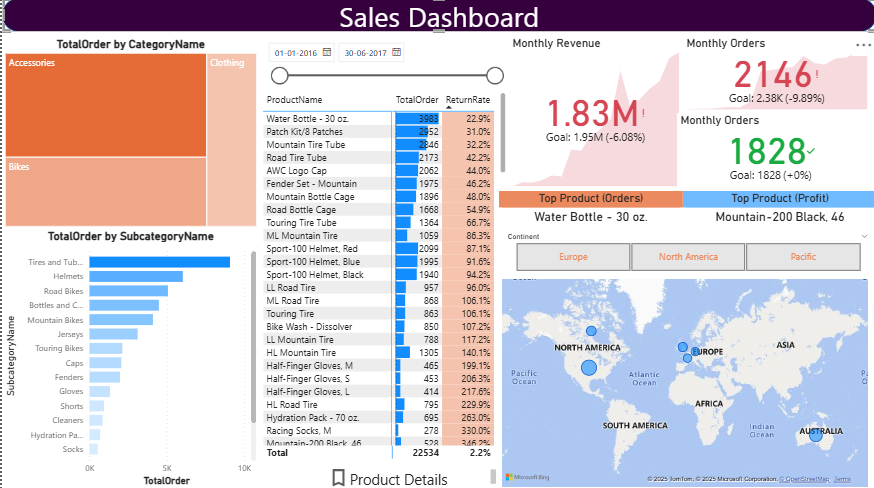

What the dashboard file says about the page in this screenshot:
{"tool":"powerbi","page":{"name":"summary","canvas":[1280,720],"ordinal":0},"visuals":[{"type":"shape","box":[0,0,1280,49.6],"z":0},{"type":"treemap","title":"TotalOrder by CategoryName","fields":{"Group":["Product_Categories.CategoryName"],"Values":["Sales_Data.TotalOrder"]},"box":[0,56.4,377.4,282.1],"z":1000},{"type":"barChart","title":"TotalOrder by SubcategoryName","fields":{"Y":["Sales_Data.TotalOrder"],"Category":["Product_Subcategories.SubcategoryName"]},"box":[0,338.5,377.4,381.3],"z":2000},{"type":"actionButton","box":[0,0,100,40],"z":3000},{"type":"pivotTable","title":"TotalOrder by SubcategoryName","fields":{"Rows":["Products_Lookup.ProductName"],"Values":["Sales_Data.TotalOrder","Returns.ReturnRate"]},"box":[378,133,365,546],"z":4000},{"type":"slicer","fields":{"Values":["Calendar_Lookup.Date"]},"box":[377.7,56,364.7,76.9],"z":5000},{"type":"kpi","title":"Monthly Revenue","fields":{"Indicator":["Sales_Data.Total_revenue"],"TrendLine":["Calendar_Lookup.Start of Month"],"Goal":["Sales_Data.RevenueTarget"]},"box":[742.5,56.2,253.8,225],"z":6000},{"type":"kpi","title":"Monthly Orders","fields":{"TrendLine":["Calendar_Lookup.Start of Month"],"Indicator":["Sales_Data.TotalOrder"],"Goal":["Sales_Data.OrderTarget"]},"box":[996.2,56.2,275,112.5],"z":7000},{"type":"card","title":"Top Product (Orders)","fields":{"Values":["Min(Products_Lookup.ProductName)"]},"box":[727.5,282.5,268.8,56.2],"z":8000},{"type":"card","title":"Top Product (Profit)","fields":{"Values":["Min(Products_Lookup.ProductName)"]},"box":[996.2,282.5,283.8,56.2],"z":9000},{"type":"map","fields":{"Category":["Territories_Lookup.Country"],"Size":["Sales_Data.TotalOrder"]},"box":[727.5,406.2,545,313.8],"z":10000},{"type":"slicer","fields":{"Values":["Territories_Lookup.Continent"]},"box":[727.5,338.8,552.5,67.5],"z":11000},{"type":"kpi","title":"Monthly Orders","fields":{"TrendLine":["Calendar_Lookup.Start of Month"],"Indicator":["Returns.TotalReturn"],"Goal":["Returns.Previous_month_Return"]},"box":[988.2,167.9,274.8,112.9],"z":12000},{"type":"textbox","box":[442,685,286,34],"z":13000},{"type":"actionButton","box":[0,0,100,40],"z":14000},{"type":"actionButton","box":[0,0,100,40],"z":15000},{"type":"actionButton","box":[476,685,42,34],"z":16000}]}

Visuals, with their boxes in screenshot pixels (x1, y1, x2, y2), scaled from the page's 1280x720 canvas onto the 874x488 screenshot:
shape: 0, 0, 873, 34
"TotalOrder by CategoryName" treemap: 0, 38, 258, 229
"TotalOrder by SubcategoryName" barChart: 0, 229, 258, 487
actionButton: 0, 0, 68, 27
"TotalOrder by SubcategoryName" pivotTable: 258, 90, 507, 460
slicer - Calendar_Lookup.Date: 258, 38, 507, 90
"Monthly Revenue" kpi: 507, 38, 680, 191
"Monthly Orders" kpi: 680, 38, 868, 114
"Top Product (Orders)" card: 497, 191, 680, 230
"Top Product (Profit)" card: 680, 191, 873, 230
map - Territories_Lookup.Country x Sales_Data.TotalOrder: 497, 275, 869, 487
slicer - Territories_Lookup.Continent: 497, 230, 873, 275
"Monthly Orders" kpi: 675, 114, 862, 190
textbox: 302, 464, 497, 487
actionButton: 0, 0, 68, 27
actionButton: 0, 0, 68, 27
actionButton: 325, 464, 354, 487
